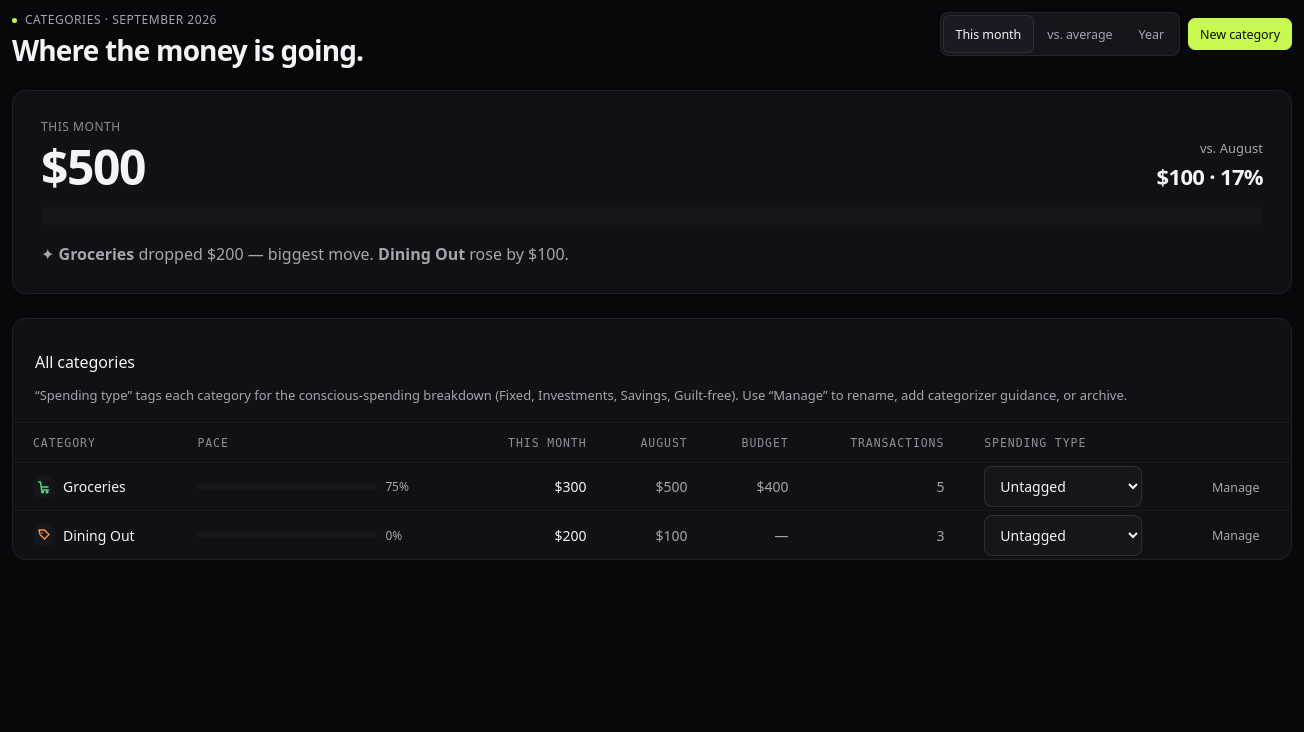
Test case: Categories — scope-aware labels › labels the average scope honestly as a 2-month average, not a 12-month one
What coordinates should you click on to do the following:
click the button "vs. average"
I would click on:
 (1080, 34)
Its box is x1=1035 y1=16 x2=1124 y2=52.
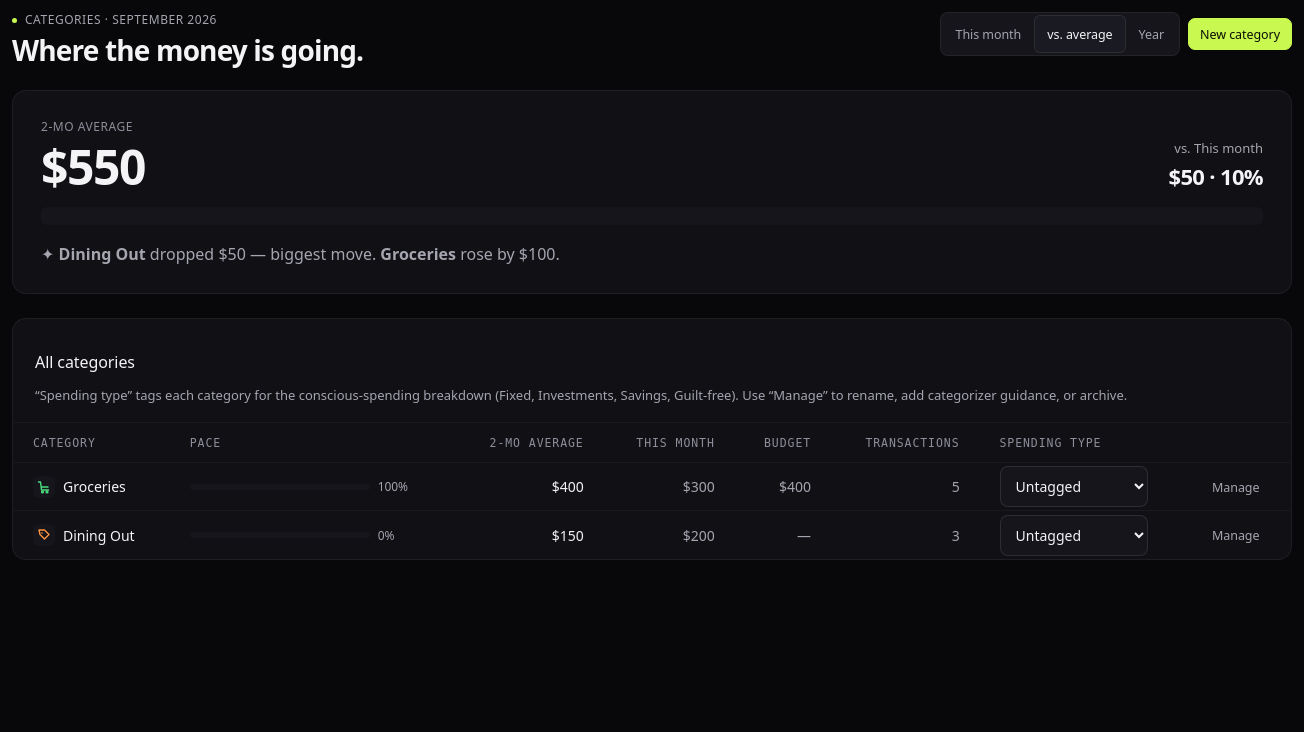
Result: the text "2-mo average" is shown at x1=41 y1=119 x2=145 y2=135
